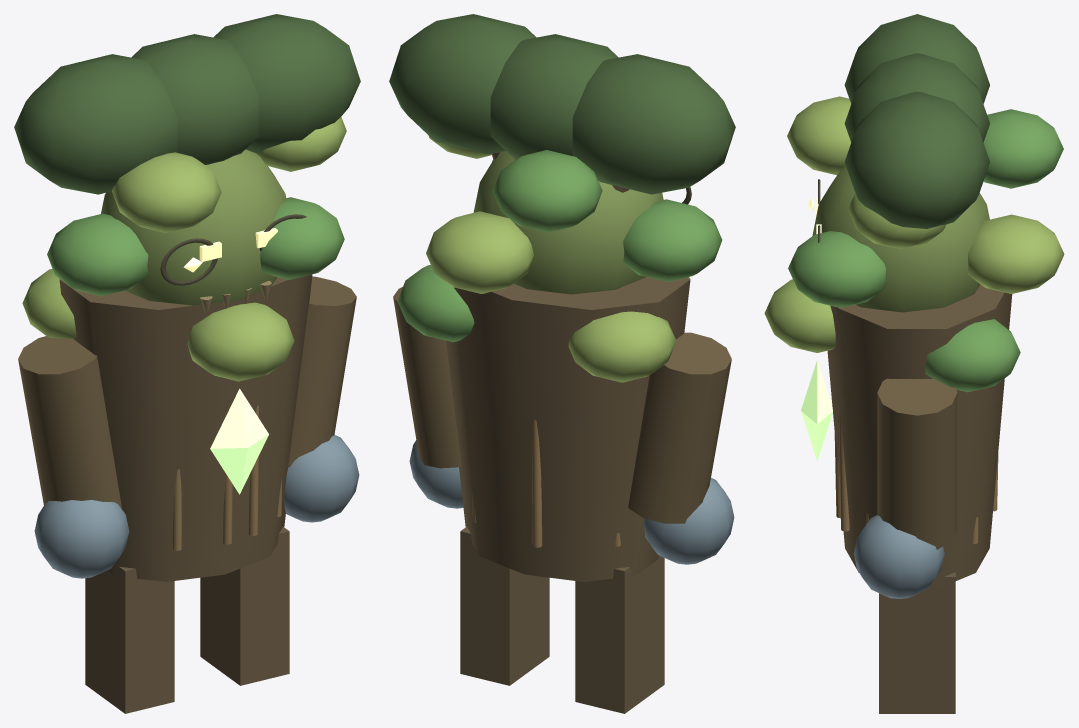
The model's file is enemy-tree.glb.
The picture shows the model from 3 angles, left to right: view 1: azimuth 30°, elevation 25°; view 2: azimuth 150°, elevation 25°; view 3: azimuth 270°, elevation 25°; orthographic projection. The views are drawn at different scales.
Parts seen in each view (by area): view 1: Body, Arm0, Arm1, Leg0, Leg1; view 2: Body, Arm0, Leg0, Leg1, Arm1; view 3: Body, Arm1, Leg1.
Boxes of the visible parts, x1,y1,x2,y2 form: Body: [14, 14, 360, 581]; Arm0: [18, 336, 129, 578]; Arm1: [284, 276, 359, 522]; Leg0: [85, 566, 174, 713]; Leg1: [200, 527, 289, 685]; Body: [389, 14, 735, 581]; Arm0: [628, 332, 734, 564]; Leg0: [575, 555, 664, 713]; Leg1: [460, 527, 549, 685]; Arm1: [393, 287, 463, 508]; Body: [764, 14, 1064, 587]; Arm1: [853, 378, 957, 598]; Leg1: [879, 572, 955, 713].
Size of the model in its own units: 1.37 by 2.52 by 1.12.
